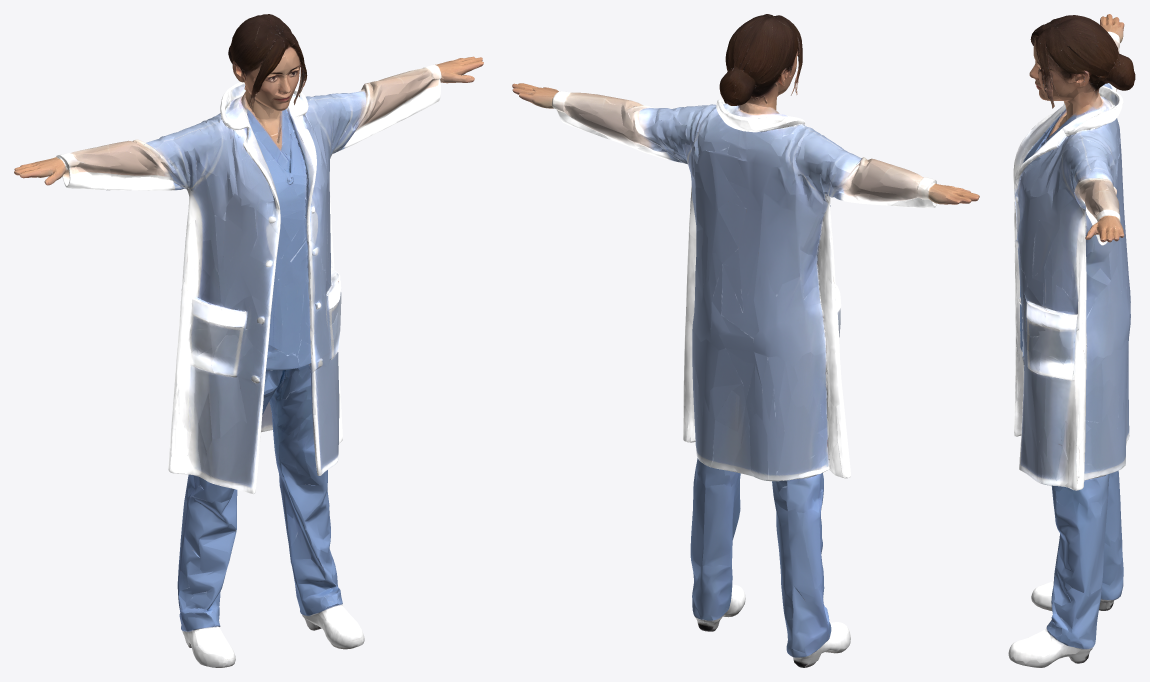
The model's file is ped_nurse.glb.
3 views of the same model, side by side, from view 1: azimuth 30°, elevation 25°; view 2: azimuth 150°, elevation 25°; view 3: azimuth 270°, elevation 25° (orthographic).
Parts seen in each view (by area): view 1: Mesh_0; view 2: Mesh_0; view 3: Mesh_0.
Boxes of the visible parts, x1,y1,x2,y2 form: Mesh_0: (14,14,483,667); Mesh_0: (512,14,979,667); Mesh_0: (1008,14,1135,667).
Size of the model in its own units: 1.49 by 1.9 by 0.3537.
1 material, 1 textured.
